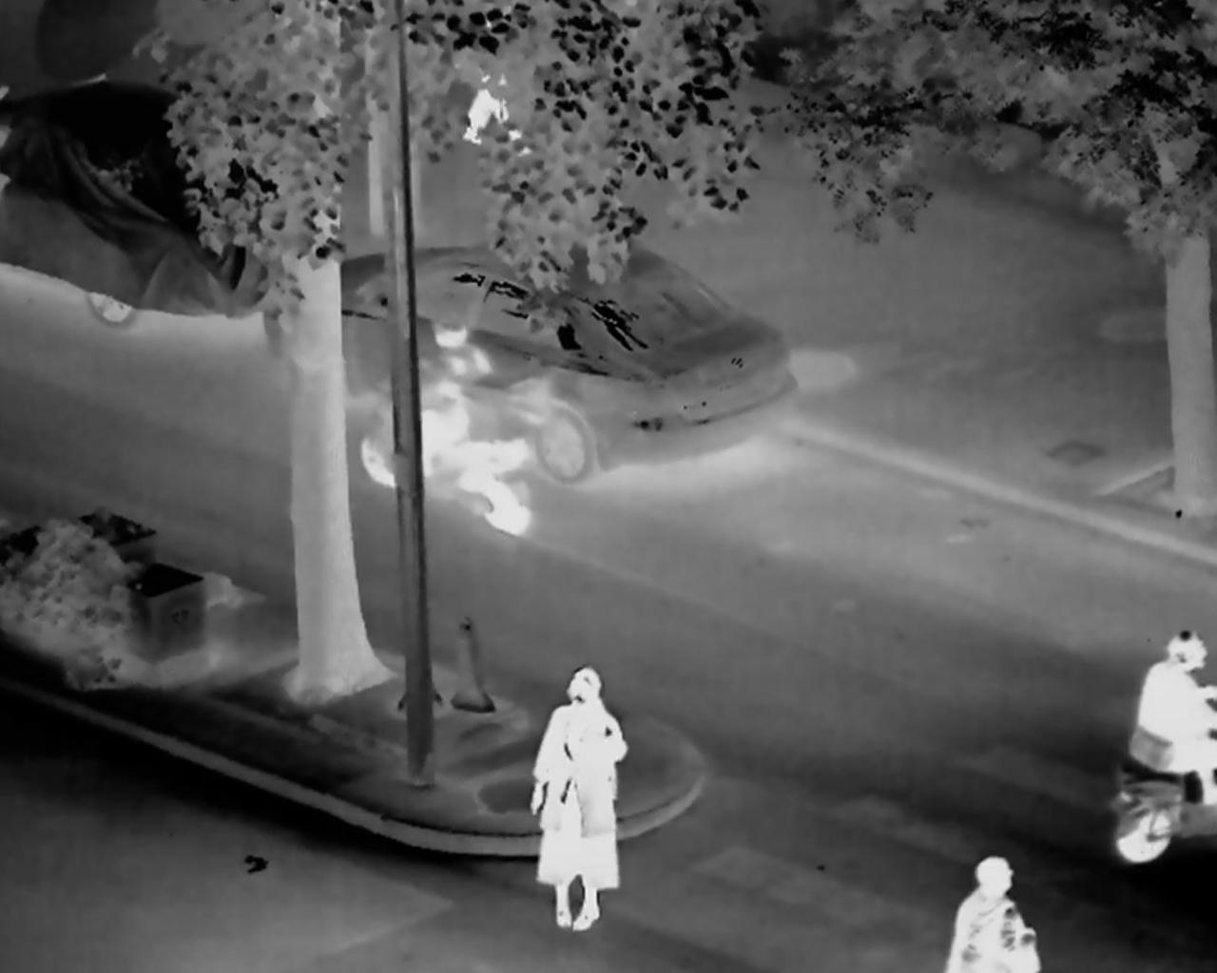person: (521, 652, 636, 947), (1111, 617, 1217, 808), (395, 320, 494, 488), (944, 854, 1057, 973), (466, 49, 549, 171)
